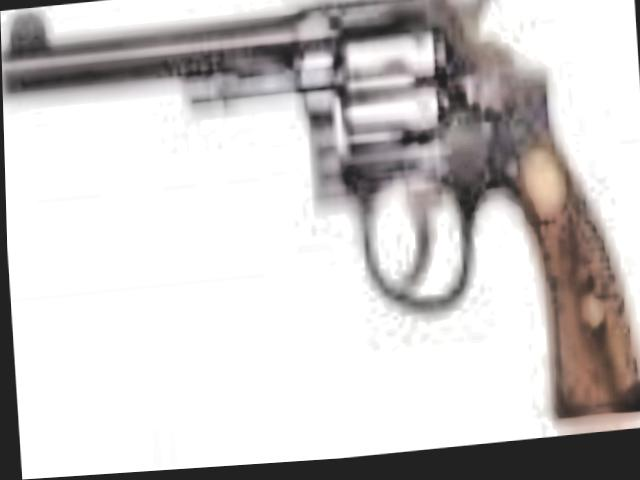pistol: (0, 0, 640, 478)
